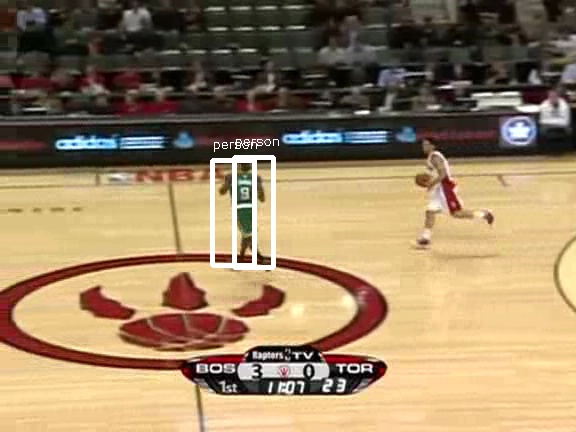person: (230, 165, 264, 246), (229, 165, 263, 246), (231, 165, 265, 246), (230, 164, 264, 245), (230, 166, 264, 247)
target_negative: (152, 4, 401, 386), (293, 165, 490, 411), (419, 121, 488, 304), (249, 257, 452, 304), (249, 303, 286, 419), (354, 353, 373, 425)
